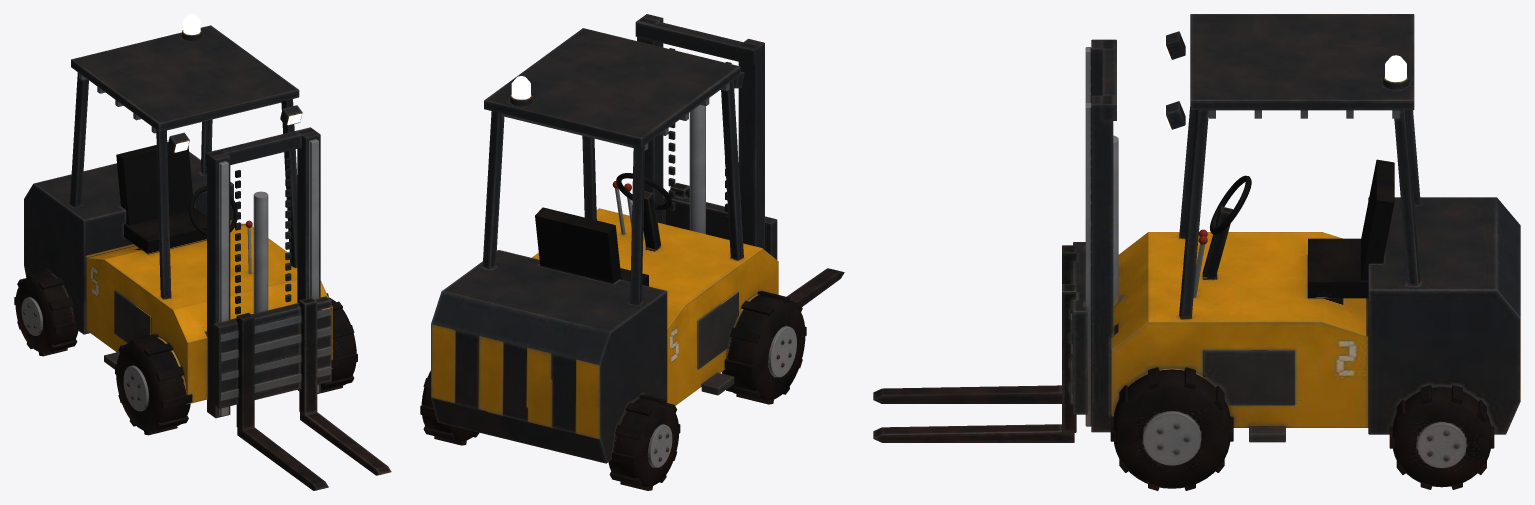
Rendered from loader.glb.
3 views of the same model, side by side, from view 1: azimuth 30°, elevation 25°; view 2: azimuth 150°, elevation 25°; view 3: azimuth 270°, elevation 25° (orthographic). The views are drawn at different scales.
Visible parts, largest first — view 1: loader; view 2: loader; view 3: loader.
Part boxes in pixels (x1,y1,x2,y2): loader: (14,14,391,490); loader: (420,14,844,490); loader: (873,14,1520,490).
Bounding box in the file's own units: 1.64 × 2.42 × 3.53.
3 materials, 3 textured.
